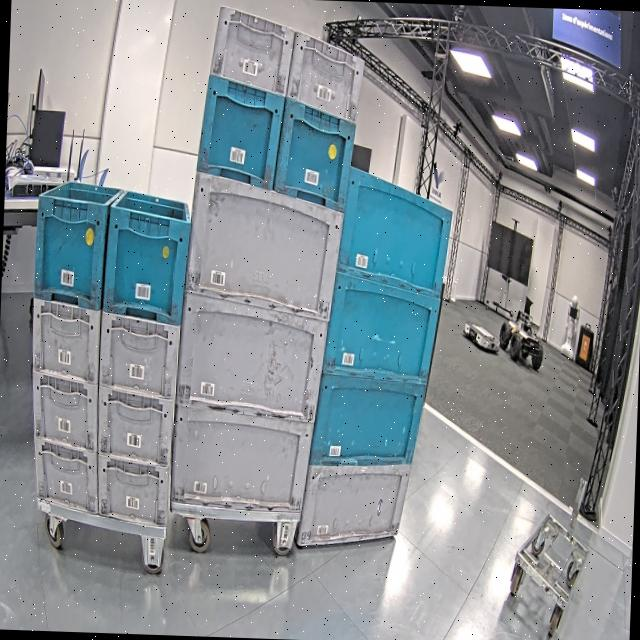Box3G: (186, 178, 348, 318), (175, 284, 332, 420), (168, 396, 314, 508), (300, 461, 416, 546)
Box8G: (286, 23, 366, 126), (205, 2, 288, 96), (96, 312, 180, 402), (96, 389, 178, 468), (31, 370, 102, 458), (32, 309, 104, 389), (31, 438, 102, 518), (96, 456, 172, 530)
BoxB4: (333, 166, 456, 297), (320, 268, 444, 386), (308, 376, 430, 468)
BoxB8: (100, 190, 194, 326), (33, 180, 117, 300), (196, 78, 285, 186), (272, 108, 358, 205)
